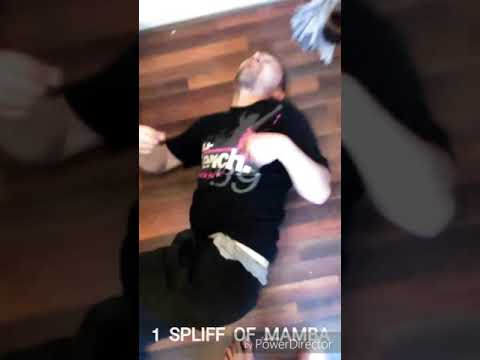collapsed: (142, 25, 340, 319)
